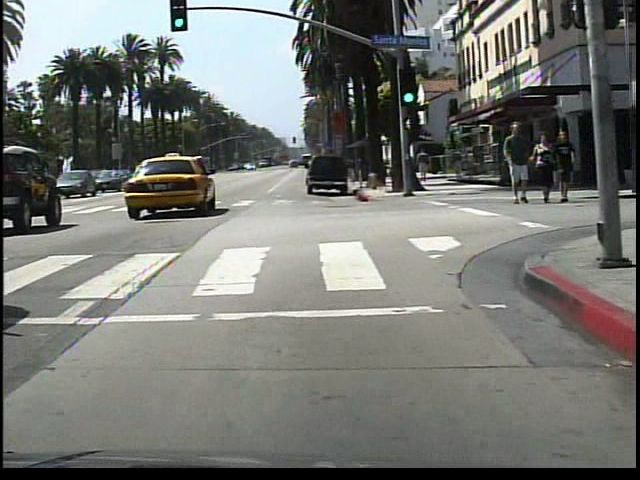person: (500, 120, 533, 209), (534, 132, 559, 207), (555, 131, 578, 208), (413, 146, 435, 187)
